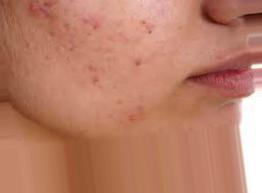Acne: (75, 17, 110, 50), (126, 53, 166, 81), (28, 1, 56, 26)
